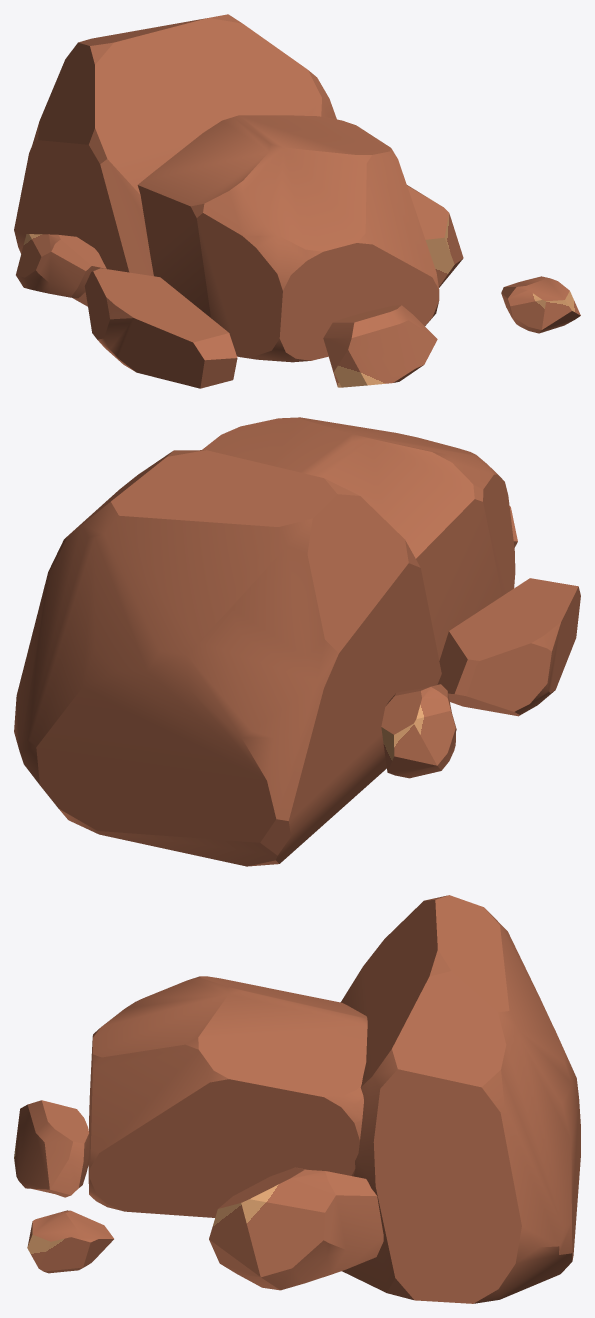
File: RockPack_04.fbx
3 renders of one model, top to bottom at view 1: azimuth 30°, elevation 25°; view 2: azimuth 150°, elevation 25°; view 3: azimuth 270°, elevation 25°, orthographic. The views are drawn at different scales.
Visible parts, largest first — view 1: RockPack_04; view 2: RockPack_04; view 3: RockPack_04.
Part boxes in pixels (x1=…): RockPack_04: x1=14, y1=14, x2=580, y2=388; RockPack_04: x1=14, y1=417, x2=580, y2=866; RockPack_04: x1=14, y1=895, x2=580, y2=1303.
Bounding box in the file's own units: 394 × 275 × 477.
